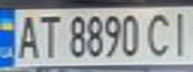0: (121, 11, 145, 58)
8: (63, 11, 87, 58), (84, 11, 106, 58)
9: (103, 11, 124, 58)
A: (12, 11, 42, 61)
C: (145, 9, 175, 58)
I: (166, 8, 193, 57)
T: (36, 11, 63, 60)
